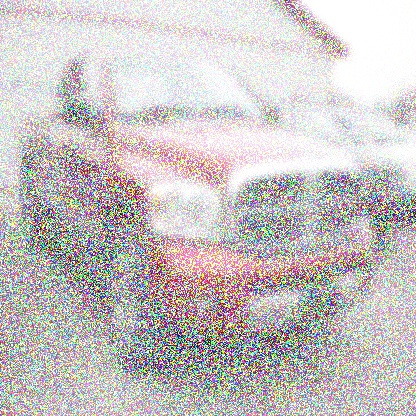Vehicle: (17, 49, 376, 377)
